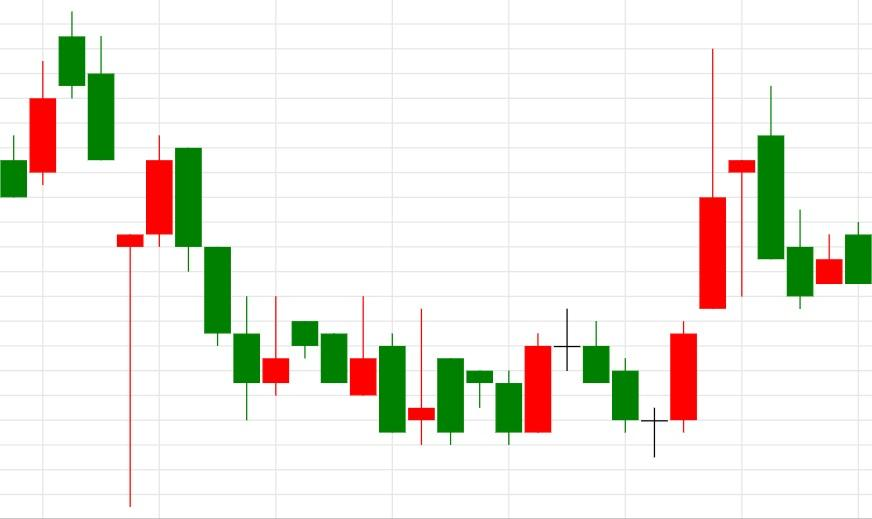evening_star_fall: (495, 309, 610, 446)
three_black_crows_fall: (116, 135, 261, 507)
